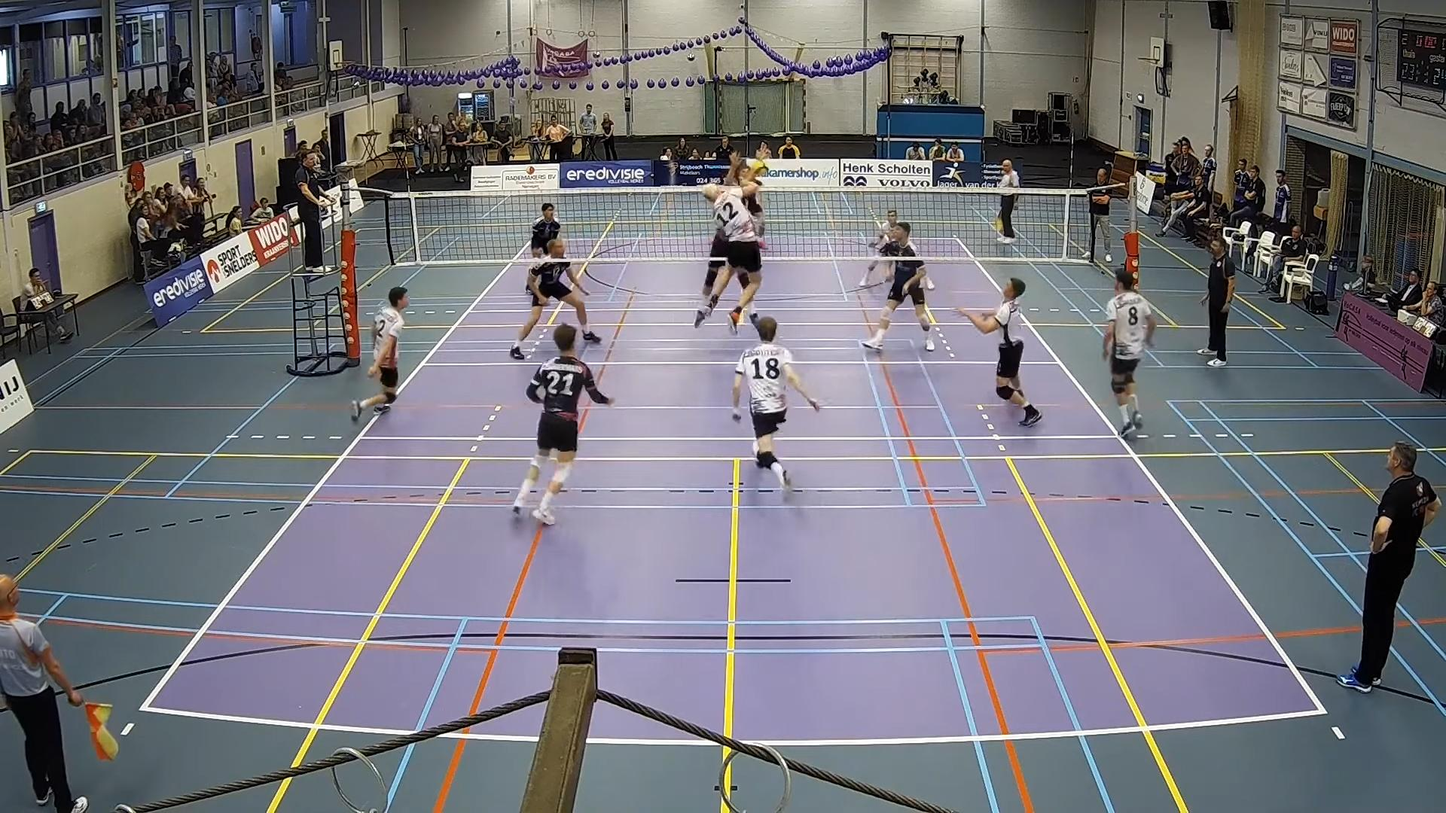Attack: (693, 150, 772, 327)
Block: (710, 146, 768, 193)
Player: (513, 324, 612, 525), (732, 317, 819, 492), (958, 278, 1042, 426), (510, 239, 600, 360), (862, 222, 935, 351), (1104, 269, 1156, 440), (351, 286, 407, 420), (859, 209, 898, 287), (531, 202, 560, 257)
ball: (751, 157, 768, 180)
